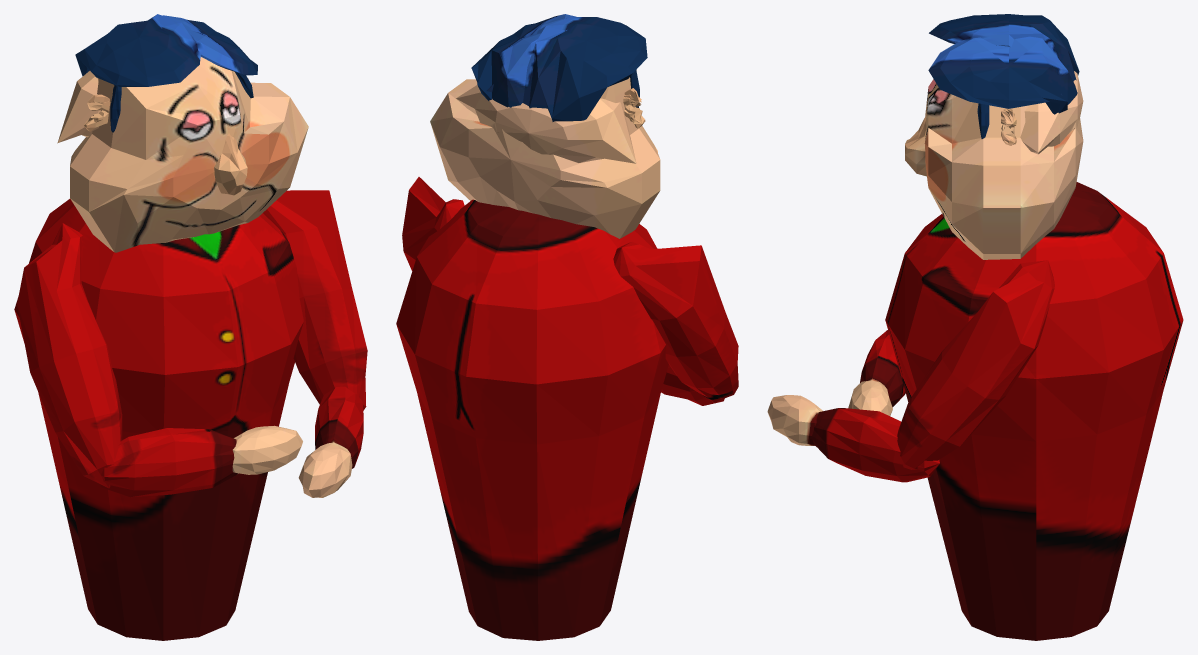
The model's file is Manager.glb.
3 views of the same model, side by side, from view 1: azimuth 30°, elevation 25°; view 2: azimuth 150°, elevation 25°; view 3: azimuth 270°, elevation 25° (orthographic). The views are drawn at different scales.
Parts seen in each view (by area): view 1: Manager; view 2: Manager; view 3: Manager.
Boxes of the visible parts, left/top/right/bottom form: Manager: left=14, top=14, right=367, bottom=640; Manager: left=396, top=14, right=738, bottom=640; Manager: left=767, top=14, right=1183, bottom=640.
Size of the model in its own units: 261 by 491 by 309.
1 material, 1 textured.
